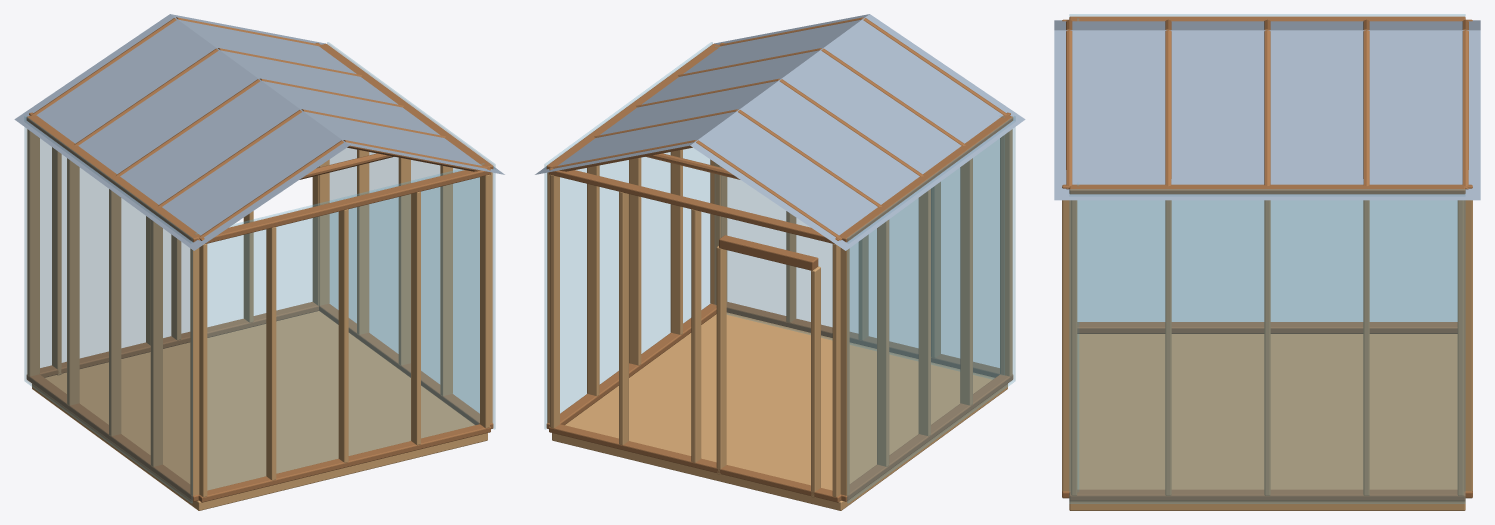
The model's file is shed.glb.
The picture shows the model from 3 angles, left to right: view 1: azimuth 30°, elevation 25°; view 2: azimuth 150°, elevation 25°; view 3: azimuth 270°, elevation 25°; orthographic projection. The views are drawn at different scales.
Visible parts, largest first — view 1: Back sheathing, Left sheathing, Floor, Roof cutaway, Right sheathing, Roof cutaway.001, Left stud 1, Left stud 4, Left stud 3, Left stud 2, Back plate, Back plate.001 (+28 smaller); view 2: Left sheathing, Floor, Roof cutaway, Back sheathing, Right sheathing, Roof cutaway.001, Left stud 3, Left stud 0, Left stud 1, Left stud 2, Front plate, Front plate.001 (+28 smaller); view 3: Right sheathing, Roof cutaway.001, Floor, Left sheathing, Right plate, Left plate, Right plate.001, Roof cutaway, Back stud 4, Front stud 0, Left plate.001, Right stud 1 (+9 smaller).
Boxes of the visible parts, <box> form: Back sheathing: <box>195,163,484,489</box>; Left sheathing: <box>24,116,192,502</box>; Floor: <box>32,311,487,510</box>; Roof cutaway: <box>14,14,349,250</box>; Right sheathing: <box>327,42,495,429</box>; Roof cutaway.001: <box>170,14,504,174</box>; Left stud 1: <box>150,220,162,466</box>; Left stud 4: <box>27,129,39,376</box>; Left stud 3: <box>67,158,79,405</box>; Left stud 2: <box>109,189,121,436</box>; Back plate: <box>198,424,490,502</box>; Back plate.001: <box>197,167,490,244</box>; Left sheathing: <box>847,116,1015,502</box>; Floor: <box>552,312,1007,510</box>; Roof cutaway: <box>690,14,1025,250</box>; Back sheathing: <box>715,46,1004,378</box>; Right sheathing: <box>544,42,712,429</box>; Roof cutaway.001: <box>535,14,869,174</box>; Left stud 3: <box>877,220,889,466</box>; Left stud 0: <box>1000,129,1012,376</box>; Left stud 1: <box>960,158,972,405</box>; Left stud 2: <box>918,189,930,436</box>; Front plate: <box>549,424,841,502</box>; Front plate.001: <box>549,165,842,244</box>; Right sheathing: <box>1069,189,1465,503</box>; Roof cutaway.001: <box>1054,30,1480,200</box>; Floor: <box>1069,334,1465,510</box>; Left sheathing: <box>1069,14,1465,321</box>; Right plate: <box>1069,489,1465,501</box>; Left plate: <box>1077,322,1457,333</box>; Right plate.001: <box>1069,184,1465,194</box>; Roof cutaway: <box>1054,20,1480,30</box>; Back stud 4: <box>1062,200,1070,491</box>; Front stud 0: <box>1464,200,1472,491</box>; Left plate.001: <box>1069,16,1465,21</box>; Right stud 1: <box>1363,200,1369,495</box>.
Bounding box in the file's own units: 8.6 × 8.87 × 8.6.
